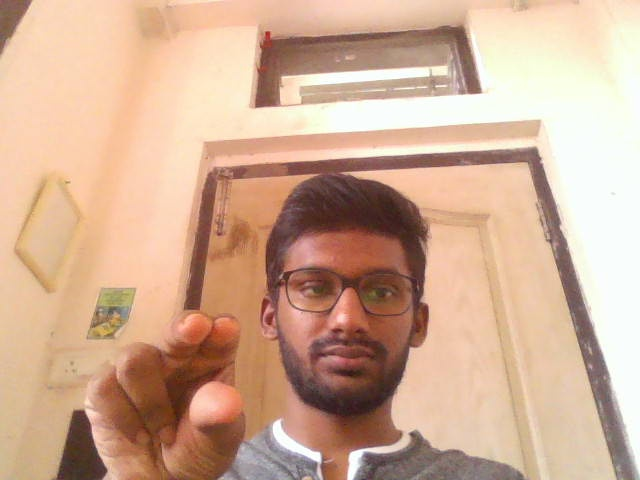No: (79, 310, 250, 480)
